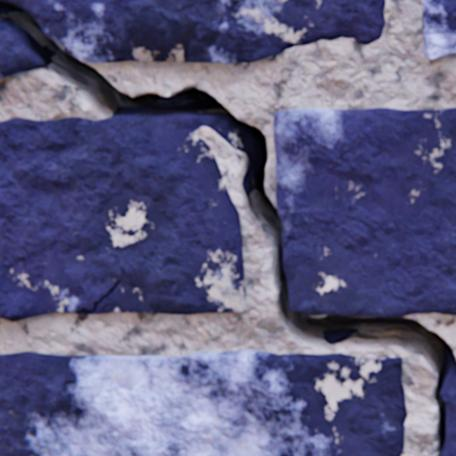brick: (0, 117, 246, 321), (0, 350, 406, 455), (274, 108, 455, 317), (422, 0, 455, 60), (438, 378, 455, 455)
broken_brick: (2, 0, 385, 64), (0, 23, 45, 80)
crack: (0, 0, 455, 454), (76, 278, 121, 312)
